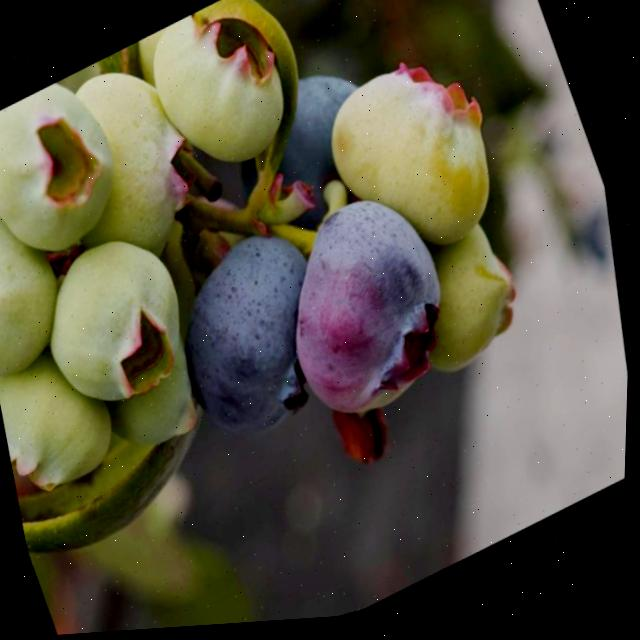Semi-RipeBlueBerry: (249, 168, 496, 452)
UnripeBlueBerry: (13, 201, 229, 442), (127, 0, 317, 195), (0, 62, 147, 274), (0, 185, 88, 380), (0, 108, 31, 223)
